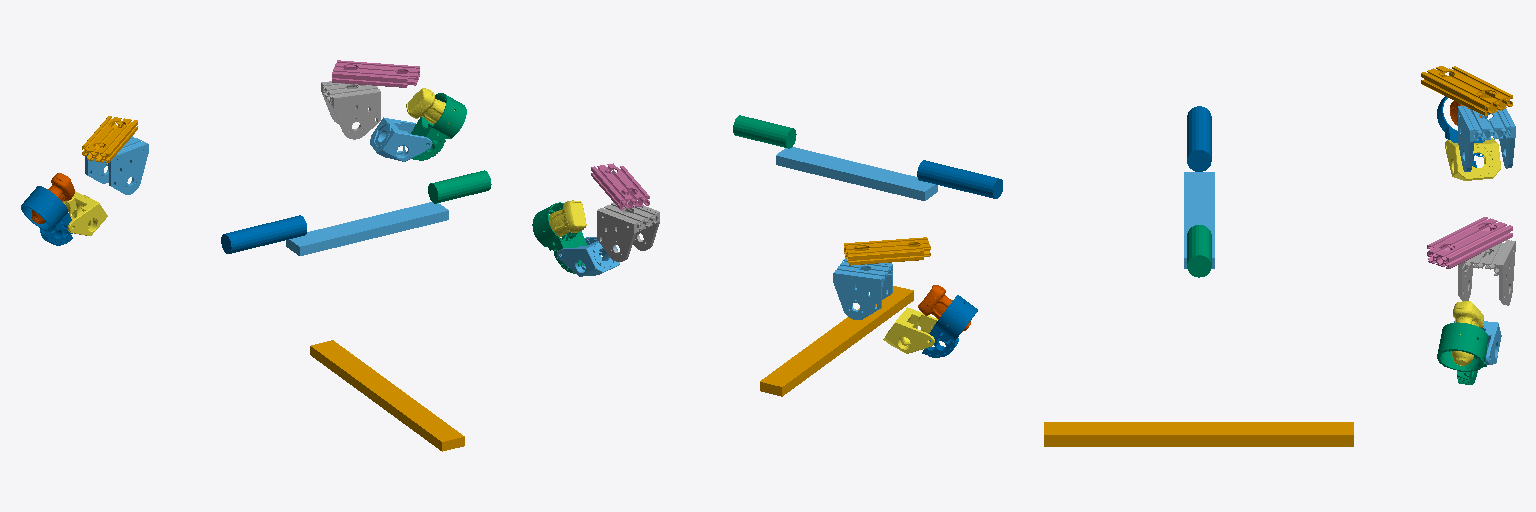
robot.urdf — Two arms:
<?xml version="1.0" ?>
<robot name="Two arms">
  <!-- Common base links -->
  <link name="Link 00">
    <inertial>
	  <origin rpy="0 0 0" xyz="0 0 0"/>
      <mass value="1"/>
      <inertia ixx="1" iyy="1" izz="1" ixy="0" ixz="0" iyz="0"/>
    </inertial>
    <visual>
      <origin rpy="0 0 0" xyz="0 0 0"/>
      <geometry>
        <mesh filename="stl2/Link00.stl"/>
      </geometry>
    </visual>
    <collision>
      <origin rpy="1.5708 0 1.5708" xyz="0 0 0.4"/>
      <geometry>
        <mesh filename="stl2/Link00.stl"/>
      </geometry>
    </collision>
  </link>

  <link name="Link 01">
    <inertial>
	  <origin rpy="0 0 0" xyz="0 0 0"/>
      <mass value="1"/>
      <inertia ixx="1" iyy="1" izz="1" ixy="0" ixz="0" iyz="0"/>
    </inertial>
    <visual>
      <origin rpy="0 0 0" xyz="0 0 0"/>
      <geometry>
        <mesh filename="stl2/Link01.stl"/>
      </geometry>
    </visual>
    <collision>
      <origin rpy="1.5708 0 1.5708" xyz="0 0 0.4"/>
      <geometry>
        <mesh filename="stl2/Link01.stl"/>
      </geometry>
    </collision>
  </link>

  <joint name="Joint 00-01" type="prismatic">
    <origin rpy="0 0 0" xyz="0 0 0.36"/>
    <axis xyz="0 1 0"/>
    <parent link="Link 00"/>
    <child link="Link 01"/>
    <dynamics damping="0.1"/>
    <limit lower="-0.5" upper="0.5" effort="100" velocity="1"/>
  </joint>

  <!-- Left arm -->
    <link name="Link 02">
    <inertial>
	  <origin rpy="0 0 0" xyz="0 0 0"/>
      <mass value="1"/>
      <inertia ixx="1" iyy="1" izz="1" ixy="0" ixz="0" iyz="0"/>
    </inertial>
    <visual>
      <origin rpy="0 0 0" xyz="0 0 0"/>
      <geometry>
        <mesh filename="stl2/Link02.stl"/>
      </geometry>
    </visual>
    <collision>
      <origin rpy="1.5708 0 1.5708" xyz="0 0 0.4"/>
      <geometry>
        <mesh filename="stl2/Link02.stl"/>
      </geometry>
    </collision>
  </link>

  <joint name="Joint 01-02" type="fixed">
    <origin rpy="1.5708 0 1.5708" xyz="0.1 0 0.04"/>
    <parent link="Link 01"/>
    <child link="Link 02"/>
  </joint>

  <link name="Link 03">
    <inertial>
	  <origin rpy="0 0 0" xyz="0 0 0"/>
      <mass value="1"/>
      <inertia ixx="1" iyy="1" izz="1" ixy="0" ixz="0" iyz="0"/>
    </inertial>
    <visual>
      <origin rpy="0 0 0" xyz="0 0 0"/>
      <geometry>
        <mesh filename="stl2/Link03.stl"/>
      </geometry>
    </visual>
    <collision>
      <origin rpy="1.5708 0 1.5708" xyz="0 0 0.4"/>
      <geometry>
        <mesh filename="stl2/Link03_CH.stl"/>
      </geometry>
    </collision>
  </link>

  <joint name="Joint 02-03" type="revolute">
    <origin rpy="0 0 0.2327" xyz="0 0 0.116"/>
    <axis xyz="0 0 1"/>
    <parent link="Link 02"/>
    <child link="Link 03"/>
    <dynamics damping="0.1"/>
    <limit lower="-0.3142" upper="0.7400" effort="100" velocity="1"/>
  </joint>

  <link name="Link 04">
    <inertial>
	  <origin rpy="0 0 0" xyz="0 0 0"/>
      <mass value="1"/>
      <inertia ixx="1" iyy="1" izz="1" ixy="0" ixz="0" iyz="0"/>
    </inertial>
    <visual>
      <origin rpy="0 0 0" xyz="0 0 0"/>
      <geometry>
        <mesh filename="stl2/Link04.stl"/>
      </geometry>
    </visual>
    <collision>
      <origin rpy="1.5708 0 1.5708" xyz="0 0 0.4"/>
      <geometry>
        <mesh filename="stl2/Link04_CH.stl"/>
      </geometry>
    </collision>
  </link>

  <joint name="Joint 03-04" type="revolute">
    <origin rpy="1.5708 0 -0.2327" xyz="0.155 0 0"/>
    <axis xyz="0 1 0"/>
    <parent link="Link 03"/>
    <child link="Link 04"/>
    <dynamics damping="0.1"/>
    <limit lower="-0.7400" upper="0.3142" effort="100" velocity="1"/>
  </joint>

  <link name="Link 05">
    <inertial>
	  <origin rpy="0 0 0" xyz="0 0 0"/>
      <mass value="1"/>
      <inertia ixx="1" iyy="1" izz="1" ixy="0" ixz="0" iyz="0"/>
    </inertial>
    <visual>
      <origin rpy="0 0 0" xyz="0 0 0"/>
      <geometry>
        <mesh filename="stl2/Link05.stl"/>
      </geometry>
    </visual>
    <collision>
      <origin rpy="1.5708 0 1.5708" xyz="0 0 0.4"/>
      <geometry>
        <mesh filename="stl2/Link05_CH.stl"/>
      </geometry>
    </collision>
  </link>

  <joint name="Joint 04-05" type="revolute">
    <origin rpy="0 0 0.2618" xyz="0.075 0 -0.024"/>
    <axis xyz="0 0 1"/>
    <parent link="Link 04"/>
    <child link="Link 05"/>
    <dynamics damping="0.1"/>
    <limit lower="-1.6057" upper="1.1868" effort="100" velocity="1"/>
  </joint>

  <link name="Link 06">
    <inertial>
	  <origin rpy="0 0 0" xyz="0 0 0"/>
      <mass value="1"/>
      <inertia ixx="1" iyy="1" izz="1" ixy="0" ixz="0" iyz="0"/>
    </inertial>
    <visual>
      <origin rpy="0 0 0" xyz="0 0 0"/>
      <geometry>
        <mesh filename="stl2/Link06.stl"/>
      </geometry>
    </visual>
    <collision>
      <origin rpy="1.5708 0 1.5708" xyz="0 0 0.4"/>
      <geometry>
        <mesh filename="stl2/Link06_CH.stl"/>
      </geometry>
    </collision>
  </link>

  <joint name="Joint 05-06" type="revolute">
    <origin rpy="0 0 -1.1345" xyz="0.180 0 0.024"/>
    <axis xyz="0 0 1"/>
    <parent link="Link 05"/>
    <child link="Link 06"/>
    <dynamics damping="0.1"/>
    <limit lower="-2.7925" upper="2.3562" effort="100" velocity="1"/>
  </joint>

  <link name="Link 07">
    <inertial>
	  <origin rpy="0 0 0" xyz="0 0 0"/>
      <mass value="1"/>
      <inertia ixx="1" iyy="1" izz="1" ixy="0" ixz="0" iyz="0"/>
    </inertial>
    <visual>
      <origin rpy="0 0 0" xyz="0 0 0"/>
      <geometry>
        <mesh filename="stl2/Link07.stl"/>
      </geometry>
    </visual>
    <collision>
      <origin rpy="1.5708 0 1.5708" xyz="0 0 0.4"/>
      <geometry>
        <mesh filename="stl2/Link07_CH.stl"/>
      </geometry>
    </collision>
  </link>

  <joint name="Joint 06-07" type="revolute">
    <origin rpy="1.5708 0 -0.4887" xyz="0.1 0 0.086"/>
    <axis xyz="0 1 0"/>
    <parent link="Link 06"/>
    <child link="Link 07"/>
    <dynamics damping="0.1"/>
    <limit lower="-2.9671" upper="3.0194" effort="100" velocity="1"/>
  </joint>

  <link name="Link 08">
    <inertial>
	  <origin rpy="0 0 0" xyz="0 0 0"/>
      <mass value="1"/>
      <inertia ixx="1" iyy="1" izz="1" ixy="0" ixz="0" iyz="0"/>
    </inertial>
    <visual>
      <origin rpy="0 0 0" xyz="0 0 0"/>
      <geometry>
        <mesh filename="stl2/Link08.stl"/>
      </geometry>
    </visual>
    <collision>
      <origin rpy="1.5708 0 1.5708" xyz="0 0 0.4"/>
      <geometry>
        <mesh filename="stl2/Link08_CH.stl"/>
      </geometry>
    </collision>
  </link>

  <joint name="Joint 07-08" type="revolute">
    <origin rpy="1.5708 0 1.5708" xyz="0 0 0"/>
    <axis xyz="0 1 0"/>
    <parent link="Link 07"/>
    <child link="Link 08"/>
    <dynamics damping="0.1"/>
    <limit lower="1.4661" upper="3.5779" effort="100" velocity="1"/>
  </joint>

  <link name="Link 09">
    <inertial>
	  <origin rpy="0 0 0" xyz="0 0 0"/>
      <mass value="1"/>
      <inertia ixx="1" iyy="1" izz="1" ixy="0" ixz="0" iyz="0"/>
    </inertial>
    <visual>
      <origin rpy="0 0 0" xyz="0 0 0"/>
      <geometry>
        <mesh filename="stl2/Link09.stl"/>
      </geometry>
    </visual>
    <collision>
      <origin rpy="1.5708 0 1.5708" xyz="0 0 0.4"/>
      <geometry>
        <mesh filename="stl2/Link09_CH.stl"/>
      </geometry>
    </collision>
  </link>

  <joint name="Joint 08-09" type="revolute">
    <origin rpy="-1.5708 0 0" xyz="0 0 0.1505"/>
    <axis xyz="0 1 0"/>
    <parent link="Link 08"/>
    <child link="Link 09"/>
    <dynamics damping="0.1"/>
    <limit lower="-1.5708" upper="1.5010" effort="100" velocity="1"/>
  </joint>

  <link name="Link 10">
    <inertial>
	  <origin rpy="0 0 0" xyz="0 0 0"/>
      <mass value="1"/>
      <inertia ixx="1" iyy="1" izz="1" ixy="0" ixz="0" iyz="0"/>
    </inertial>
    <visual>
      <origin rpy="0 0 0" xyz="0 0 0"/>
      <geometry>
        <mesh filename="stl2/Link10.stl"/>
      </geometry>
    </visual>
    <collision>
      <origin rpy="1.5708 0 1.5708" xyz="0 0 0.4"/>
      <geometry>
        <mesh filename="stl2/Link10_CH.stl"/>
      </geometry>
    </collision>
  </link>

  <joint name="Joint 09-10" type="revolute">
    <origin rpy="-1.5708 0 -1.5708" xyz="0.035 0 0"/>
    <axis xyz="0 1 0"/>
    <parent link="Link 09"/>
    <child link="Link 10"/>
    <dynamics damping="0.1"/>
    <limit lower="-2.4086" upper="-0.6981" effort="100" velocity="1"/>
  </joint>

  <link name="Link 11">
    <inertial>
	  <origin rpy="0 0 0" xyz="0 0 0"/>
      <mass value="1"/>
      <inertia ixx="1" iyy="1" izz="1" ixy="0" ixz="0" iyz="0"/>
    </inertial>
    <visual>
      <origin rpy="0 0 0" xyz="0 0 0"/>
      <geometry>
        <mesh filename="stl2/Link11.stl"/>
      </geometry>
    </visual>
    <collision>
      <origin rpy="1.5708 0 1.5708" xyz="0 0 0.4"/>
      <geometry>
        <mesh filename="stl2/Link11_CH.stl"/>
      </geometry>
    </collision>
  </link>

  <joint name="Joint 10-11" type="revolute">
    <origin rpy="1.5708 0 -0.2967" xyz="0.0551 0 0.05865"/>
    <axis xyz="0 1 0"/>
    <parent link="Link 10"/>
    <child link="Link 11"/>
    <dynamics damping="0.1"/>
    <limit lower="-3.1416" upper="3.1416" effort="100" velocity="1"/>
  </joint>

  <!-- Right arm -->
  <link name="Link 13">
    <inertial>
	  <origin rpy="0 0 0" xyz="0 0 0"/>
      <mass value="1"/>
      <inertia ixx="1" iyy="1" izz="1" ixy="0" ixz="0" iyz="0"/>
    </inertial>
    <visual>
      <origin rpy="0 0 0" xyz="0 0 0"/>
      <geometry>
        <mesh filename="stl2/Link13.stl"/>
      </geometry>
    </visual>
    <collision>
      <origin rpy="1.5708 0 1.5708" xyz="0 0 0.4"/>
      <geometry>
        <mesh filename="stl2/Link13.stl"/>
      </geometry>
    </collision>
  </link>

  <joint name="Joint 01-13" type="fixed">
    <origin rpy="1.5708 0 1.5708" xyz="-0.187 0 0.04"/>
    <parent link="Link 01"/>
    <child link="Link 13"/>
  </joint>

  <link name="Link 14">
    <inertial>
	  <origin rpy="0 0 0" xyz="0 0 0"/>
      <mass value="1"/>
      <inertia ixx="1" iyy="1" izz="1" ixy="0" ixz="0" iyz="0"/>
    </inertial>
    <visual>
      <origin rpy="0 0 0" xyz="0 0 0"/>
      <geometry>
        <mesh filename="stl2/Link03.stl"/>
      </geometry>
    </visual>
    <collision>
      <origin rpy="1.5708 0 1.5708" xyz="0 0 0.4"/>
      <geometry>
        <mesh filename="stl2/Link03_CH.stl"/>
      </geometry>
    </collision>
  </link>

  <joint name="Joint 13-14" type="revolute">
    <origin rpy="0 0 0.2327" xyz="0 0 -0.166"/>
    <axis xyz="0 0 1"/>
    <parent link="Link 13"/>
    <child link="Link 14"/>
    <dynamics damping="0.1"/>
    <limit lower="-0.3142" upper="0.7435" effort="100" velocity="1"/>
  </joint>

  <link name="Link 15">
    <inertial>
	  <origin rpy="0 0 0" xyz="0 0 0"/>
      <mass value="1"/>
      <inertia ixx="1" iyy="1" izz="1" ixy="0" ixz="0" iyz="0"/>
    </inertial>
    <visual>
      <origin rpy="0 0 0" xyz="0 0 0"/>
      <geometry>
        <mesh filename="stl2/Link04.stl"/>
      </geometry>
    </visual>
    <collision>
      <origin rpy="1.5708 0 1.5708" xyz="0 0 0.4"/>
      <geometry>
        <mesh filename="stl2/Link04_CH.stl"/>
      </geometry>
    </collision>
  </link>

  <joint name="Joint 14-15" type="revolute">
    <origin rpy="1.5708 0 -0.2327" xyz="0.155 0 0"/>
    <axis xyz="0 1 0"/>
    <parent link="Link 14"/>
    <child link="Link 15"/>
    <dynamics damping="0.1"/>
    <limit lower="-0.7435" upper="0.3142" effort="100" velocity="1"/>
  </joint>

  <link name="Link 16">
    <inertial>
	  <origin rpy="0 0 0" xyz="0 0 0"/>
      <mass value="1"/>
      <inertia ixx="1" iyy="1" izz="1" ixy="0" ixz="0" iyz="0"/>
    </inertial>
    <visual>
      <origin rpy="0 0 0" xyz="0 0 0"/>
      <geometry>
        <mesh filename="stl2/Link05.stl"/>
      </geometry>
    </visual>
    <collision>
      <origin rpy="1.5708 0 1.5708" xyz="0 0 0.4"/>
      <geometry>
        <mesh filename="stl2/Link05_CH.stl"/>
      </geometry>
    </collision>
  </link>

  <joint name="Joint 15-16" type="revolute">
    <origin rpy="0 0 -0.2618" xyz="0.075 0 -0.024"/>
    <axis xyz="0 0 1"/>
    <parent link="Link 15"/>
    <child link="Link 16"/>
    <dynamics damping="0.1"/>
    <limit lower="-1.8326" upper="1.0123" effort="100" velocity="1"/>
  </joint>

  <link name="Link 17">
    <inertial>
	  <origin rpy="0 0 0" xyz="0 0 0"/>
      <mass value="1"/>
      <inertia ixx="1" iyy="1" izz="1" ixy="0" ixz="0" iyz="0"/>
    </inertial>
    <visual>
      <origin rpy="0 0 0" xyz="0 0 0"/>
      <geometry>
        <mesh filename="stl2/Link06.stl"/>
      </geometry>
    </visual>
    <collision>
      <origin rpy="1.5708 0 1.5708" xyz="0 0 0.4"/>
      <geometry>
        <mesh filename="stl2/Link06_CH.stl"/>
      </geometry>
    </collision>
  </link>

  <joint name="Joint 16-17" type="revolute">
    <origin rpy="0 0 1.1345" xyz="0.180 0 0.024"/>
    <axis xyz="0 0 1"/>
    <parent link="Link 16"/>
    <child link="Link 17"/>
    <dynamics damping="0.1"/>
    <limit lower="-1.8151" upper="2.7576" effort="100" velocity="1"/>
  </joint>

  <link name="Link 18">
    <inertial>
	  <origin rpy="0 0 0" xyz="0 0 0"/>
      <mass value="1"/>
      <inertia ixx="1" iyy="1" izz="1" ixy="0" ixz="0" iyz="0"/>
    </inertial>
    <visual>
      <origin rpy="0 0 0" xyz="0 0 0"/>
      <geometry>
        <mesh filename="stl2/Link07.stl"/>
      </geometry>
    </visual>
    <collision>
      <origin rpy="1.5708 0 1.5708" xyz="0 0 0.4"/>
      <geometry>
        <mesh filename="stl2/Link07_CH.stl"/>
      </geometry>
    </collision>
  </link>

  <joint name="Joint 17-18" type="revolute">
    <origin rpy="1.5708 0 0.4887" xyz="0.1 0 0.086"/>
    <axis xyz="0 1 0"/>
    <parent link="Link 17"/>
    <child link="Link 18"/>
    <dynamics damping="0.1"/>
    <limit lower="-3.0107" upper="2.9671" effort="100" velocity="1"/>
  </joint>

  <link name="Link 19">
    <inertial>
	  <origin rpy="0 0 0" xyz="0 0 0"/>
      <mass value="1"/>
      <inertia ixx="1" iyy="1" izz="1" ixy="0" ixz="0" iyz="0"/>
    </inertial>
    <visual>
      <origin rpy="0 0 0" xyz="0 0 0"/>
      <geometry>
        <mesh filename="stl2/Link08.stl"/>
      </geometry>
    </visual>
    <collision>
      <origin rpy="1.5708 0 1.5708" xyz="0 0 0.4"/>
      <geometry>
        <mesh filename="stl2/Link08_CH.stl"/>
      </geometry>
    </collision>
  </link>

  <joint name="Joint 18-19" type="revolute">
    <origin rpy="1.5708 0 1.5708" xyz="0 0 0"/>
    <axis xyz="0 1 0"/>
    <parent link="Link 18"/>
    <child link="Link 19"/>
    <dynamics damping="0.1"/>
    <limit lower="1.5708" upper="3.5779" effort="100" velocity="1"/>
  </joint>

  <link name="Link 20">
    <inertial>
	  <origin rpy="0 0 0" xyz="0 0 0"/>
      <mass value="1"/>
      <inertia ixx="1" iyy="1" izz="1" ixy="0" ixz="0" iyz="0"/>
    </inertial>
    <visual>
      <origin rpy="0 0 0" xyz="0 0 0"/>
      <geometry>
        <mesh filename="stl2/Link09.stl"/>
      </geometry>
    </visual>
    <collision>
      <origin rpy="1.5708 0 1.5708" xyz="0 0 0.4"/>
      <geometry>
        <mesh filename="stl2/Link09_CH.stl"/>
      </geometry>
    </collision>
  </link>

  <joint name="Joint 19-20" type="revolute">
    <origin rpy="-1.5708 0 0" xyz="0 0 0.1505"/>
    <axis xyz="0 1 0"/>
    <parent link="Link 19"/>
    <child link="Link 20"/>
    <dynamics damping="0.1"/>
    <limit lower="-1.5708" upper="1.5882" effort="100" velocity="1"/>
  </joint>

  <link name="Link 21">
    <inertial>
	  <origin rpy="0 0 0" xyz="0 0 0"/>
      <mass value="1"/>
      <inertia ixx="1" iyy="1" izz="1" ixy="0" ixz="0" iyz="0"/>
    </inertial>
    <visual>
      <origin rpy="0 0 0" xyz="0 0 0"/>
      <geometry>
        <mesh filename="stl2/Link10.stl"/>
      </geometry>
    </visual>
    <collision>
      <origin rpy="1.5708 0 1.5708" xyz="0 0 0.4"/>
      <geometry>
        <mesh filename="stl2/Link10_CH.stl"/>
      </geometry>
    </collision>
  </link>

  <joint name="Joint 20-21" type="revolute">
    <origin rpy="-1.5708 0 -1.5708" xyz="0.035 0 0"/>
    <axis xyz="0 1 0"/>
    <parent link="Link 20"/>
    <child link="Link 21"/>
    <dynamics damping="0.1"/>
    <limit lower="-2.4260" upper="-0.6981" effort="100" velocity="1"/>
  </joint>

  <link name="Link 22">
    <inertial>
	  <origin rpy="0 0 0" xyz="0 0 0"/>
      <mass value="1"/>
      <inertia ixx="1" iyy="1" izz="1" ixy="0" ixz="0" iyz="0"/>
    </inertial>
    <visual>
      <origin rpy="0 0 0" xyz="0 0 0"/>
      <geometry>
        <mesh filename="stl2/Link11.stl"/>
      </geometry>
    </visual>
    <collision>
      <origin rpy="1.5708 0 1.5708" xyz="0 0 0.4"/>
      <geometry>
        <mesh filename="stl2/Link11_CH.stl"/>
      </geometry>
    </collision>
  </link>

  <joint name="Joint 21-22" type="revolute">
    <origin rpy="1.5708 0 0.2967" xyz="0.0551 0 0.05865"/>
    <axis xyz="0 1 0"/>
    <parent link="Link 21"/>
    <child link="Link 22"/>
    <dynamics damping="0.1"/>
    <limit lower="-3.1416" upper="3.1416" effort="100" velocity="1"/>
  </joint>
</robot>

--- What the picture shows (computed from the rendered views, not written in the file) ---
The picture shows the robot from 3 angles, left to right: view 1: azimuth 30°, elevation 25°; view 2: azimuth 150°, elevation 25°; view 3: azimuth 270°, elevation 25°; orthographic projection.
Model Two arms with 22 links and 21 joints (18 revolute, 1 prismatic, 2 fixed), rooted at Link 00, posed joints at zero except 4 at the middle of their limits (Joint 07-08 = 2.52, Joint 09-10 = -1.55, Joint 18-19 = 2.57, Joint 20-21 = -1.56).
Visible links, largest first — view 1: Link 00, Link 01, Link 07, Link 18, Link 06, Link 13, Link 21, Link 09, Link 10, Link 17, Link 02, Link 20 (+2 smaller); view 2: Link 00, Link 01, Link 07, Link 18, Link 17, Link 13, Link 21, Link 06, Link 20, Link 09, Link 02, Link 10 (+2 smaller); view 3: Link 00, Link 17, Link 06, Link 18, Link 10, Link 01, Link 07, Link 13, Link 20, Link 02, Link 11, Link 09.
Boxes of the visible links, box(x1,y1,x2,y2) form: Link 00: box(310, 340, 464, 451); Link 01: box(286, 202, 448, 255); Link 07: box(321, 81, 380, 139); Link 18: box(85, 136, 148, 194); Link 06: box(332, 60, 419, 87); Link 13: box(221, 215, 306, 253); Link 21: box(21, 186, 72, 245); Link 09: box(370, 117, 432, 161); Link 10: box(411, 93, 466, 160); Link 17: box(82, 116, 137, 162); Link 02: box(428, 170, 491, 203); Link 20: box(63, 191, 107, 235); Link 00: box(760, 286, 913, 396); Link 01: box(776, 147, 937, 200); Link 07: box(597, 200, 659, 261); Link 18: box(833, 257, 892, 319); Link 17: box(844, 237, 930, 265); Link 13: box(917, 160, 1002, 198); Link 21: box(922, 295, 977, 357); Link 06: box(591, 163, 649, 209); Link 20: box(883, 307, 937, 353); Link 09: box(557, 237, 619, 276); Link 02: box(733, 115, 796, 148); Link 10: box(532, 202, 587, 273); Link 00: box(1044, 422, 1353, 446); Link 17: box(1421, 66, 1512, 115); Link 06: box(1427, 217, 1512, 268); Link 18: box(1458, 106, 1515, 171); Link 10: box(1437, 322, 1488, 384); Link 01: box(1184, 172, 1214, 268); Link 07: box(1458, 240, 1515, 305); Link 13: box(1187, 106, 1211, 171); Link 20: box(1445, 138, 1500, 180); Link 02: box(1187, 225, 1211, 277); Link 11: box(1451, 301, 1483, 365); Link 09: box(1454, 320, 1501, 364).
Bounding box of the posed robot: 0.9597 × 0.7602 × 0.4657 m (x, y, z).
14 mesh visuals loaded from 13 distinct referenced files (9 binary STL); not drawn: 8 (reference not matched to a file when rendering).
